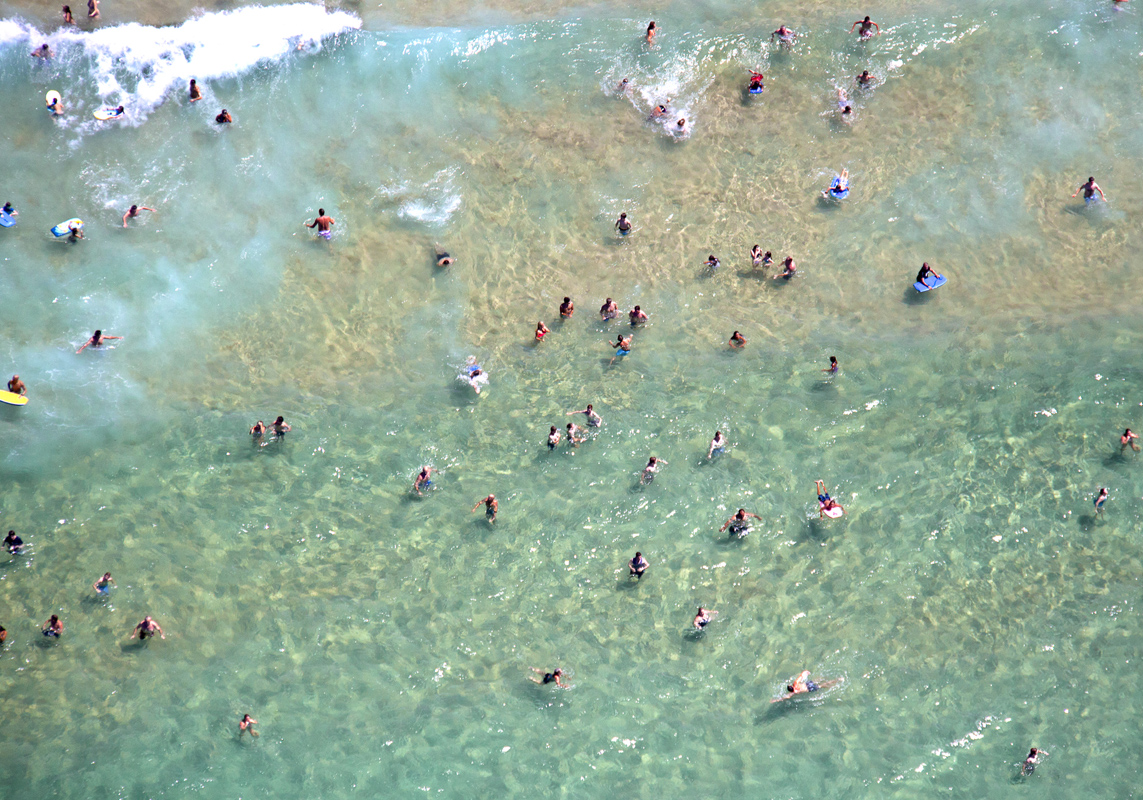people: (766, 672, 853, 705), (683, 603, 741, 645), (812, 475, 850, 527), (522, 661, 575, 692), (72, 331, 135, 356), (630, 449, 675, 484), (618, 548, 661, 584), (717, 506, 767, 536), (851, 7, 881, 57), (1013, 741, 1054, 777), (403, 458, 438, 500), (301, 208, 348, 239), (828, 76, 856, 127), (763, 19, 801, 55), (127, 615, 168, 647), (419, 241, 461, 272), (231, 711, 271, 742), (574, 396, 610, 429), (1074, 177, 1112, 208), (81, 568, 123, 596), (591, 291, 621, 328), (621, 294, 651, 331), (741, 67, 773, 101), (636, 15, 663, 55), (243, 420, 277, 451), (699, 427, 729, 462), (474, 492, 505, 523), (819, 355, 848, 388), (518, 317, 554, 343), (550, 288, 575, 324), (717, 328, 752, 353), (608, 329, 636, 359), (1112, 425, 1143, 452), (36, 612, 63, 643), (610, 71, 641, 98), (828, 168, 854, 200), (781, 249, 801, 290), (1, 528, 30, 556), (1086, 482, 1113, 511), (558, 417, 582, 448), (270, 411, 294, 441), (118, 201, 149, 224), (741, 237, 766, 264), (54, 4, 82, 28), (460, 371, 495, 390), (181, 81, 208, 105), (609, 213, 638, 235), (695, 253, 728, 272), (908, 261, 942, 279), (643, 101, 670, 123), (103, 103, 134, 122), (674, 110, 692, 141), (43, 97, 68, 119), (211, 105, 233, 129), (760, 241, 775, 273), (540, 428, 561, 450), (8, 373, 32, 392), (29, 41, 52, 59), (65, 224, 83, 243), (1, 201, 16, 215)
